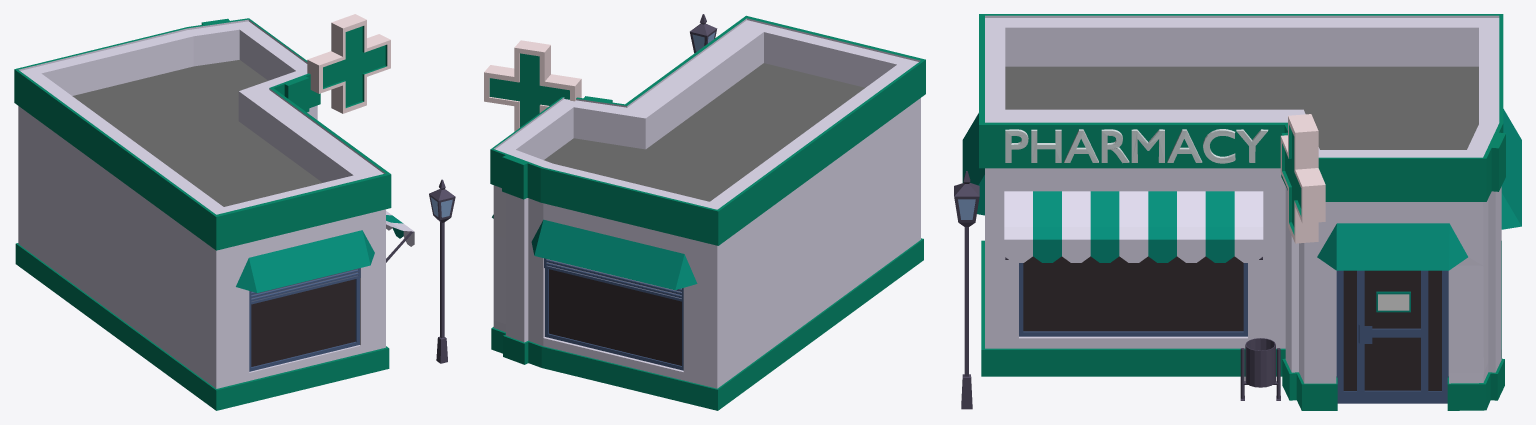
The model's file is SM_Building_Pharmacy.fbx.
3 renders of one model, left to right at view 1: azimuth 30°, elevation 25°; view 2: azimuth 150°, elevation 25°; view 3: azimuth 270°, elevation 25°, orthographic. The views are drawn at different scales.
Parts seen in each view (by area): view 1: PublicBuilding_Bin1; view 2: PublicBuilding_Bin1; view 3: PublicBuilding_Bin1.
Part boxes in pixels (x1=…): PublicBuilding_Bin1: x1=14, y1=14, x2=455, y2=410; PublicBuilding_Bin1: x1=484, y1=14, x2=925, y2=410; PublicBuilding_Bin1: x1=954, y1=14, x2=1521, y2=410.
Size of the model in its own units: 353 by 267 by 447.
Materials: 1 (1 with a texture image).
